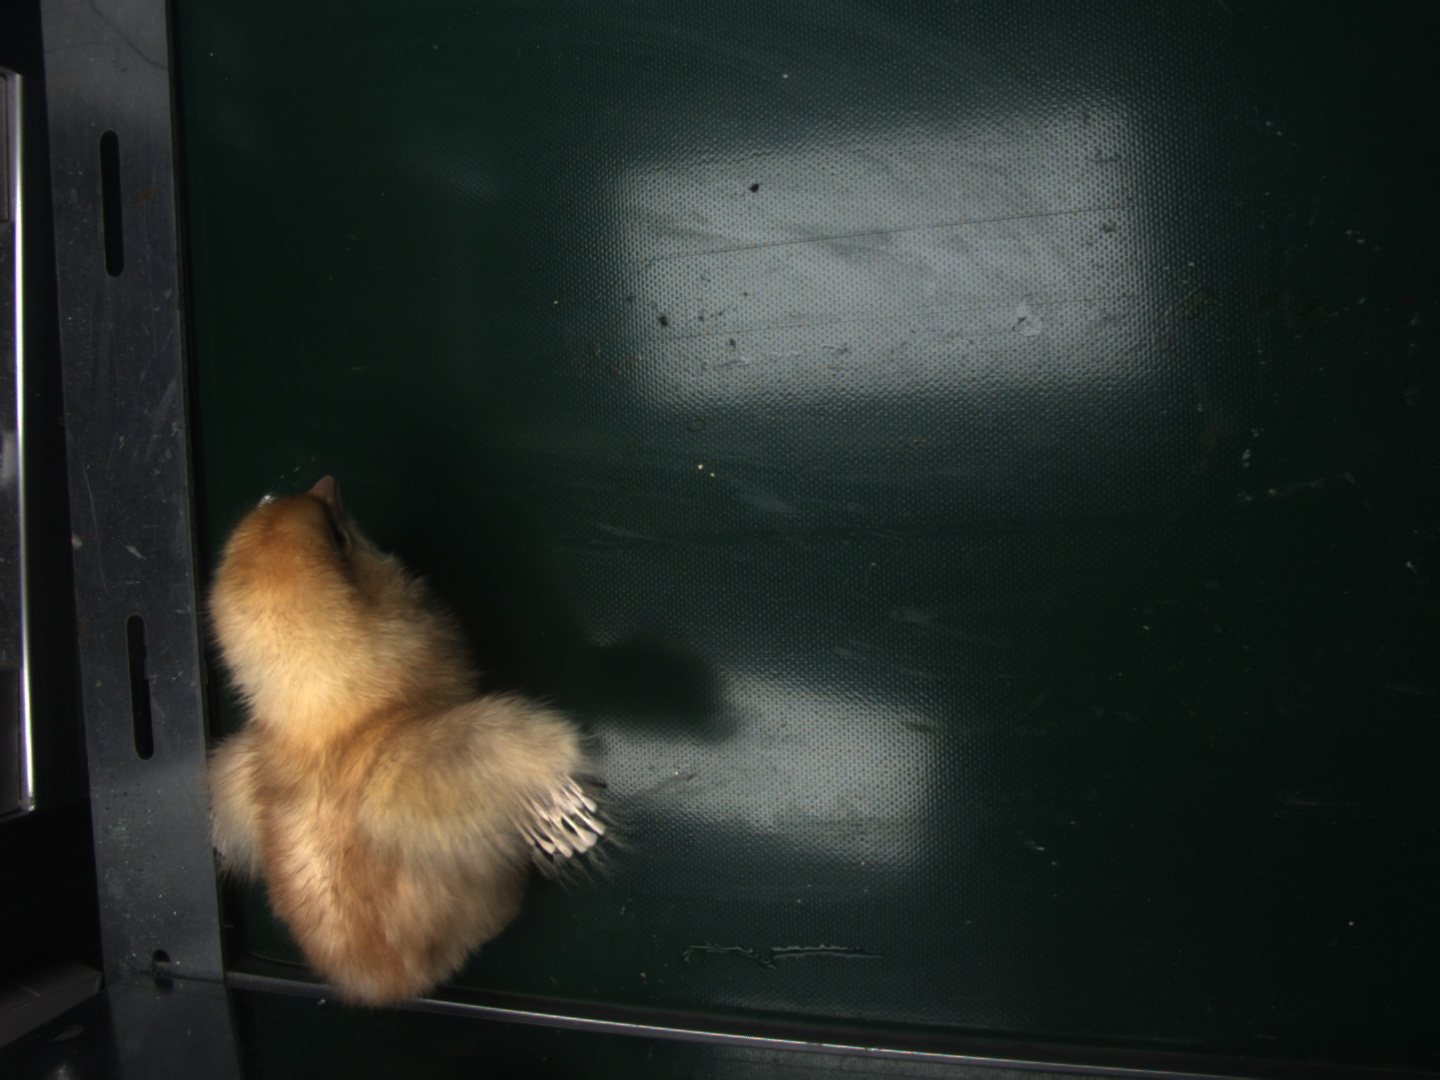female: (517, 776, 608, 858)
